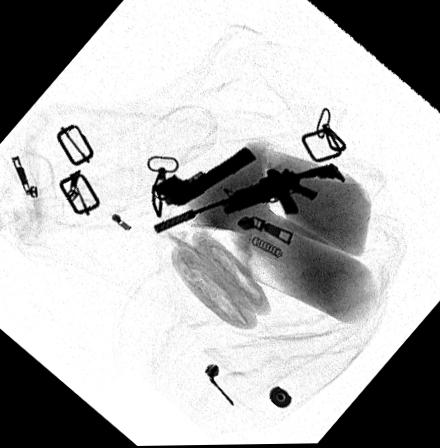Gun: (151, 161, 348, 235), (147, 144, 257, 208)
